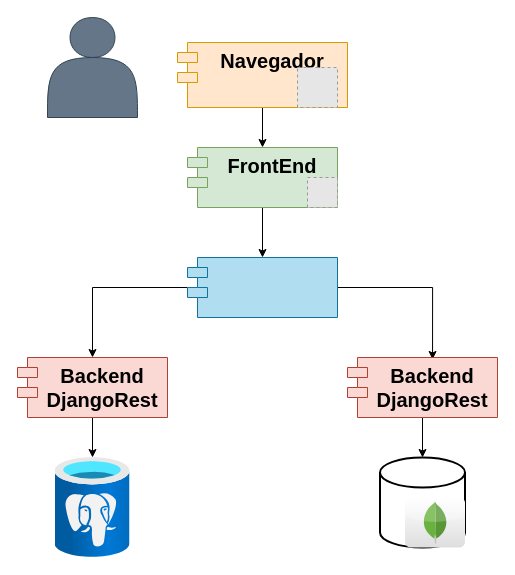
The diagram is 515 pixels wide and 575 high, and some of its shapes have lost their labels. Grey dashed boxes stand in for pictures. The centre of each missing label's shape, as x and y in pixels:
"API Gateway" goes at (x=262, y=287).
"usuario" goes at (x=92, y=67).
